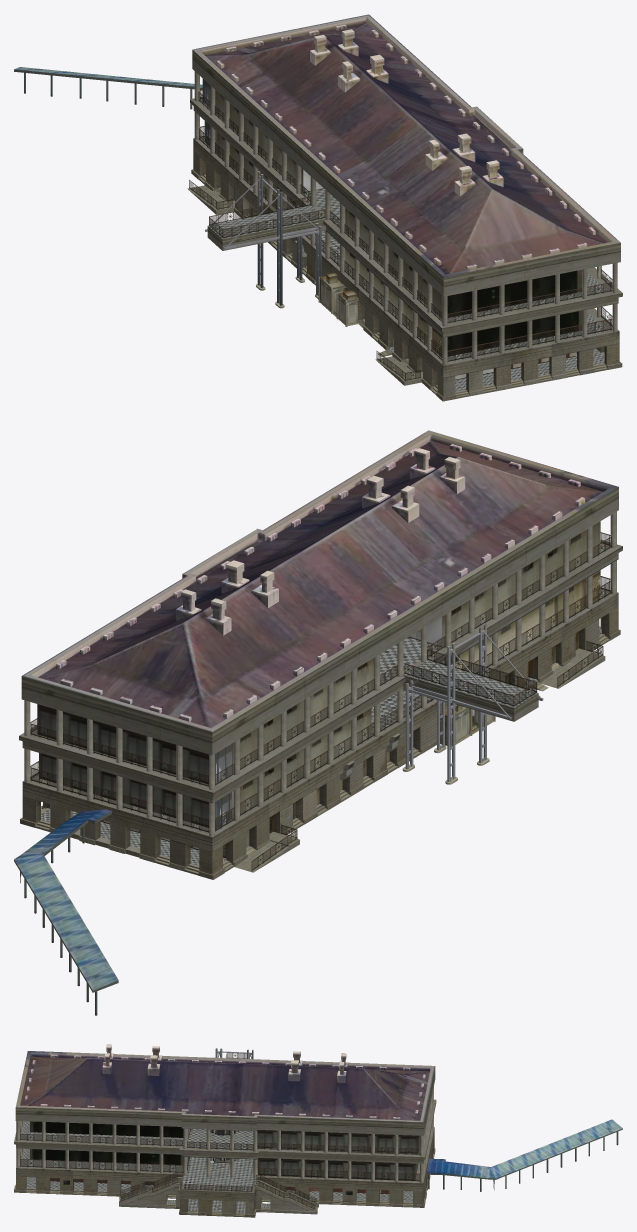
The model's file is building_stanley.glb.
3 views of the same model, one above another, from view 1: azimuth 30°, elevation 25°; view 2: azimuth 150°, elevation 25°; view 3: azimuth 270°, elevation 25° (orthographic). The views are drawn at different scales.
Parts seen in each view (by area): view 1: B396560883001063A0; view 2: B396560883001063A0; view 3: B396560883001063A0.
Boxes of the visible parts, x1,y1,x2,y2 form: B396560883001063A0: (14, 14, 622, 401); B396560883001063A0: (14, 430, 622, 1015); B396560883001063A0: (14, 1044, 622, 1217).
Size of the model in its own units: 38.74 by 20.57 by 92.52.
6 materials, 6 textured.
